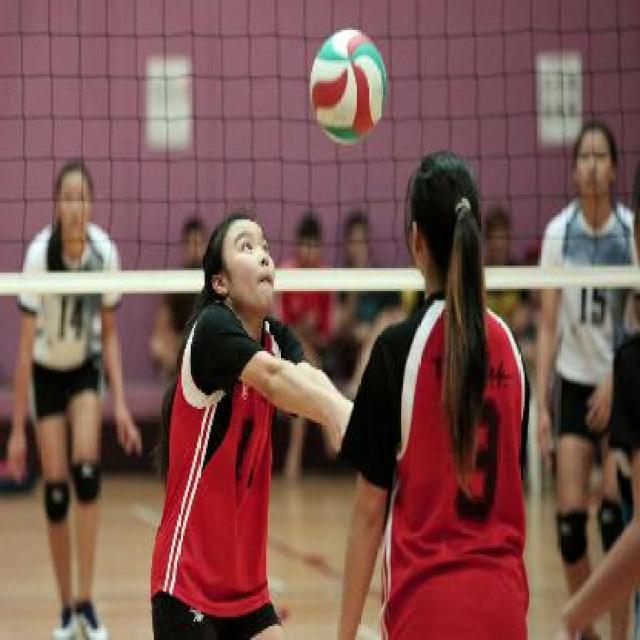volleyball: (310, 28, 388, 144)
